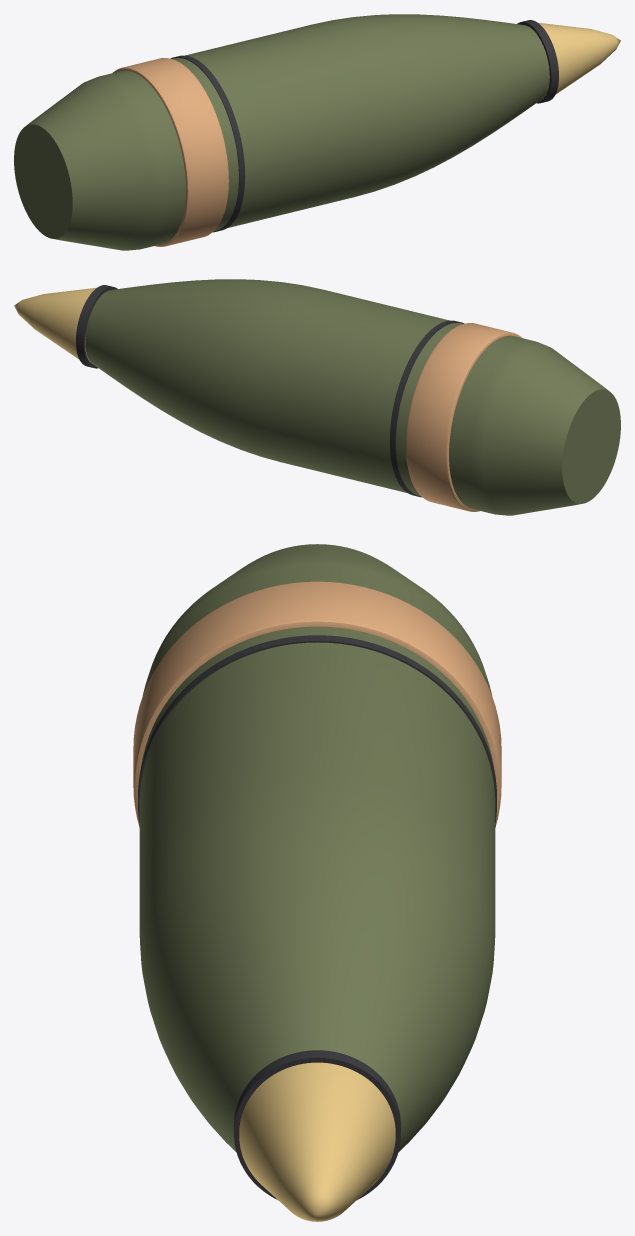
The model's file is proyectil.glb.
The picture shows the model from 3 angles, top to bottom: view 1: azimuth 30°, elevation 25°; view 2: azimuth 150°, elevation 25°; view 3: azimuth 270°, elevation 25°; orthographic projection. The views are drawn at different scales.
Visible parts, largest first — view 1: misil; view 2: misil; view 3: misil.
Part boxes in pixels (x1=…): misil: x1=14, y1=14, x2=620, y2=250; misil: x1=14, y1=279, x2=620, y2=515; misil: x1=133, y1=544, x2=501, y2=1221.
Size of the model in its own units: 0.15 by 0.0414 by 0.0414.
